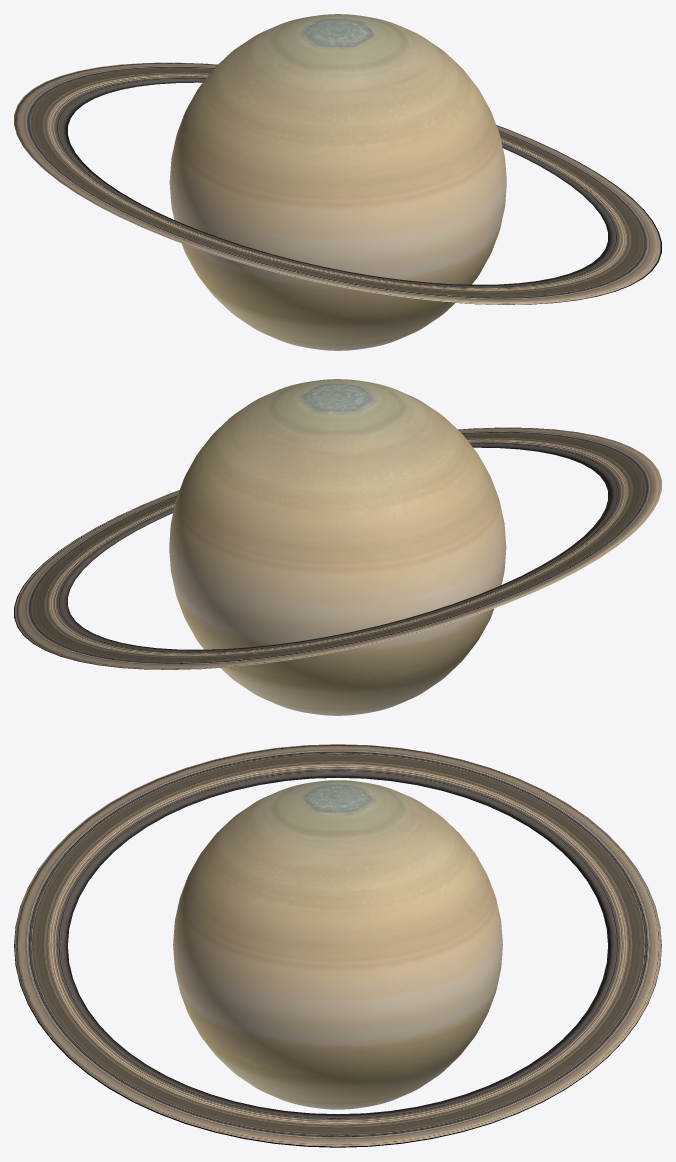
The model's file is planet-saturn.glb.
3 views of the same model, one above another, from view 1: azimuth 30°, elevation 25°; view 2: azimuth 150°, elevation 25°; view 3: azimuth 270°, elevation 25° (orthographic). The views are drawn at different scales.
Visible parts, largest first — view 1: Sphere, Circle; view 2: Sphere, Circle; view 3: Sphere, Circle.
Part boxes in pixels (x1,y1,x2,y2): Sphere: [169, 14, 506, 350]; Circle: [14, 62, 661, 304]; Sphere: [169, 379, 506, 715]; Circle: [14, 427, 661, 669]; Sphere: [173, 780, 502, 1109]; Circle: [14, 744, 661, 1147].
Size of the model in its own units: 382 by 200 by 393.
Materials: 2 (2 with a texture image).
